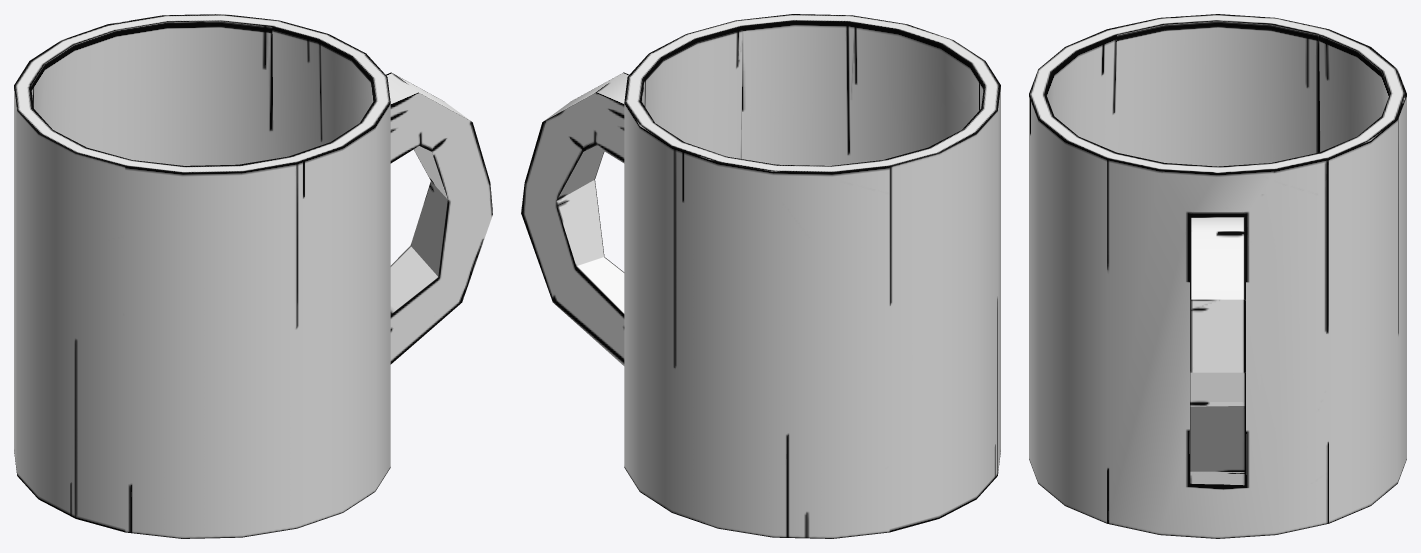
Rendered from cup.fbx.
The picture shows the model from 3 angles, left to right: view 1: azimuth 30°, elevation 25°; view 2: azimuth 150°, elevation 25°; view 3: azimuth 270°, elevation 25°; orthographic projection.
Parts seen in each view (by area): view 1: cup; view 2: cup; view 3: cup.
Boxes of the visible parts, left/top/right/bottom form: cup: left=14, top=14, right=492, bottom=538; cup: left=521, top=14, right=1000, bottom=538; cup: left=1029, top=14, right=1406, bottom=538.
Bounding box in the file's own units: 0.2102 × 0.1665 × 0.1561.
